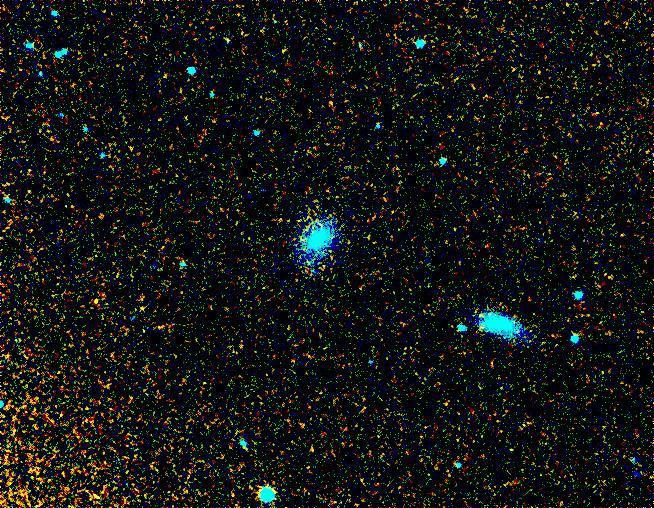star: (128, 294, 158, 324)
